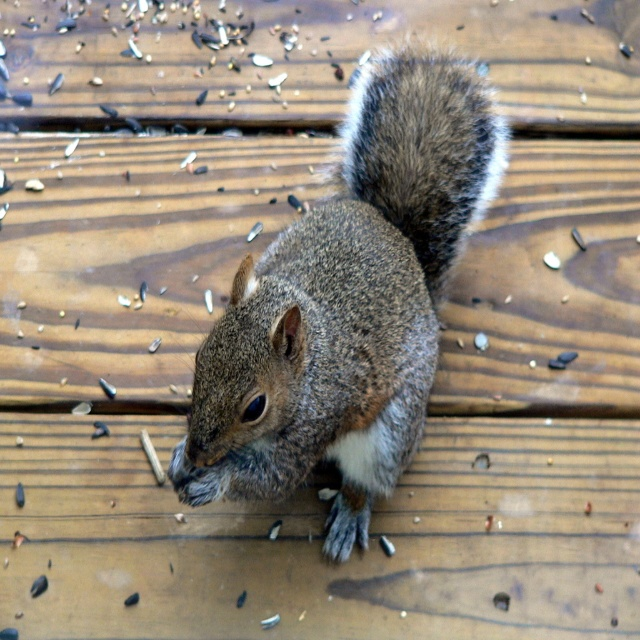Squirrel: (167, 35, 510, 565)
